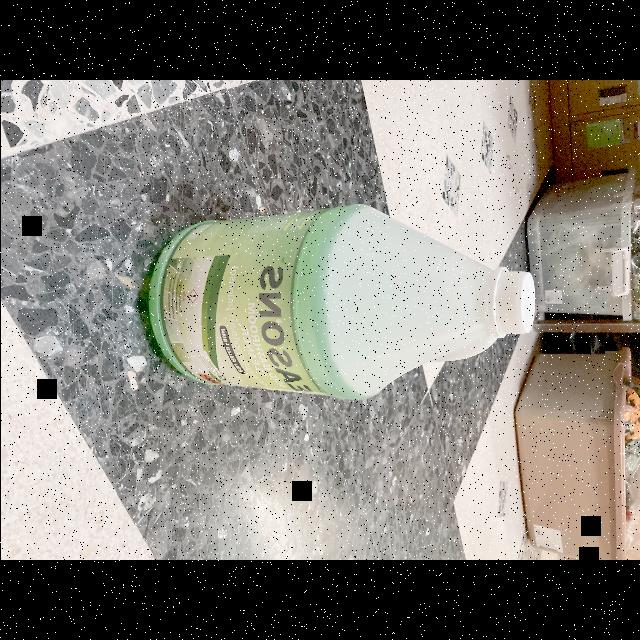chemical_plastic_gallon: (146, 201, 538, 399)
